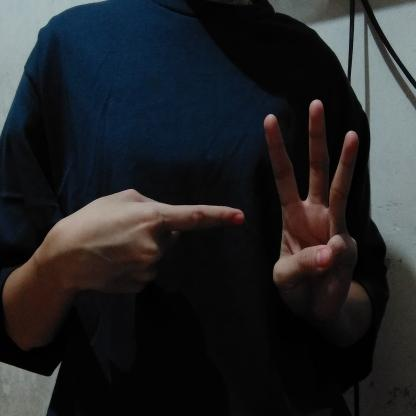why: (47, 96, 373, 354)
